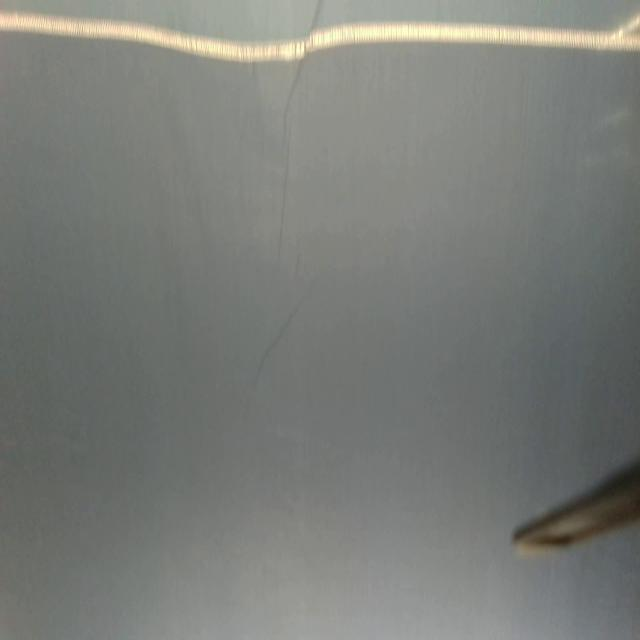crease: (261, 280, 320, 382), (288, 0, 328, 112), (276, 119, 294, 255)
